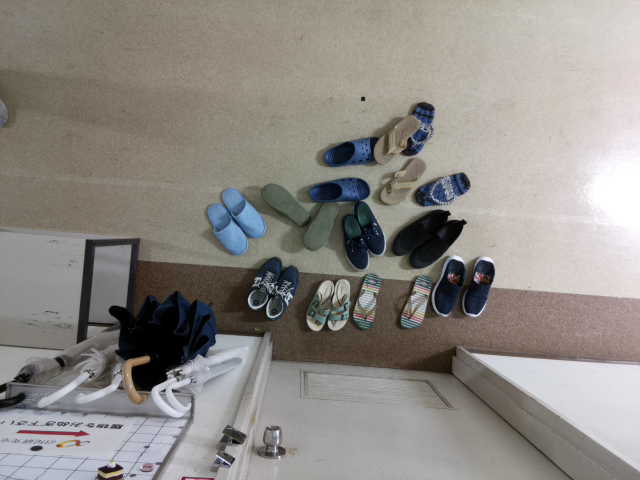Copy of Copy of Copy of Copy of Copy of Copy of Copy of sandal: (415, 172, 470, 206)
Copy of Copy of Copy of Copy of Copy of Copy of Copy of shoe: (341, 212, 369, 271)
Copy of Copy of Copy of Copy of Copy of Copy of sandal: (401, 101, 435, 156)
Copy of Copy of Copy of Copy of Copy of Copy of shoe: (352, 200, 386, 257)
Copy of Copy of Copy of Copy of Copy of sandal: (373, 115, 419, 165)
Copy of Copy of Copy of Copy of Copy of shoe: (246, 256, 282, 312)
Copy of Copy of Copy of Copy of Copy of slipper: (206, 202, 248, 255)
Copy of Copy of Copy of Copy of sandal: (379, 157, 426, 205)
Copy of Copy of Copy of Copy of shoe: (265, 264, 300, 320)
Copy of Copy of Copy of Copy of slipper: (220, 187, 266, 238)
Copy of Copy of Copy of sandal: (306, 279, 335, 331)
Copy of Copy of Copy of shoe: (431, 255, 465, 317)
Copy of Copy of Copy of slipper: (260, 182, 310, 226)
Copy of Copy of sandal: (326, 277, 351, 330)
Copy of Copy of shoe: (461, 255, 496, 317)
Copy of Copy of slipper: (302, 201, 338, 251)
Copy of sandal: (398, 274, 433, 329)
Copy of shoe: (409, 218, 467, 268)
Copy of slipper: (309, 176, 371, 202)
sandal: (352, 273, 382, 330)
shoe: (391, 208, 451, 256)
slipper: (324, 136, 379, 167)
